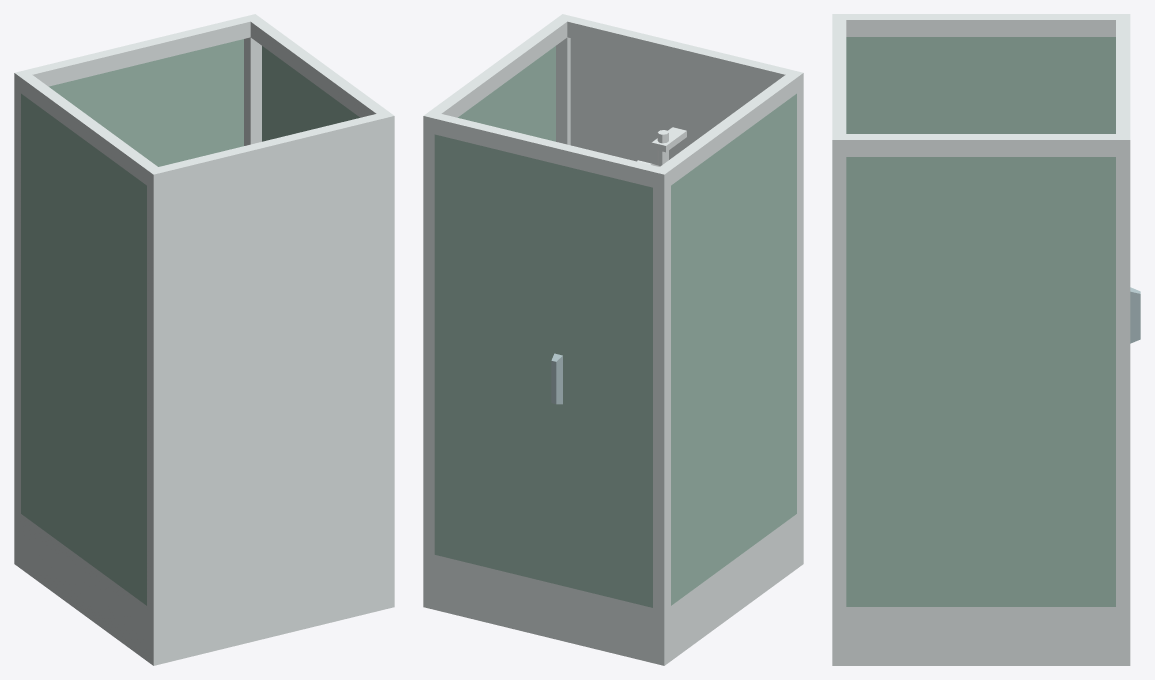
Rendered from shower.fbx.
The picture shows the model from 3 angles, left to right: view 1: azimuth 30°, elevation 25°; view 2: azimuth 150°, elevation 25°; view 3: azimuth 270°, elevation 25°; orthographic projection. The views are drawn at different scales.
Parts seen in each view (by area): view 1: shower, doorLeft, doorRight; view 2: shower, doorLeft, doorRight; view 3: shower, doorRight.
Part boxes in pixels (left/top/right/bottom): shower: left=14, top=14, right=394, bottom=665; doorLeft: left=135, top=39, right=243, bottom=166; doorRight: left=49, top=65, right=134, bottom=149; shower: left=423, top=14, right=803, bottom=665; doorLeft: left=434, top=134, right=543, bottom=581; doorRight: left=544, top=161, right=652, bottom=607; shower: left=832, top=14, right=1130, bottom=665; doorRight: left=1130, top=287, right=1140, bottom=343.
Bounding box in the file's own units: 5.62 × 10.94 × 5.82.
